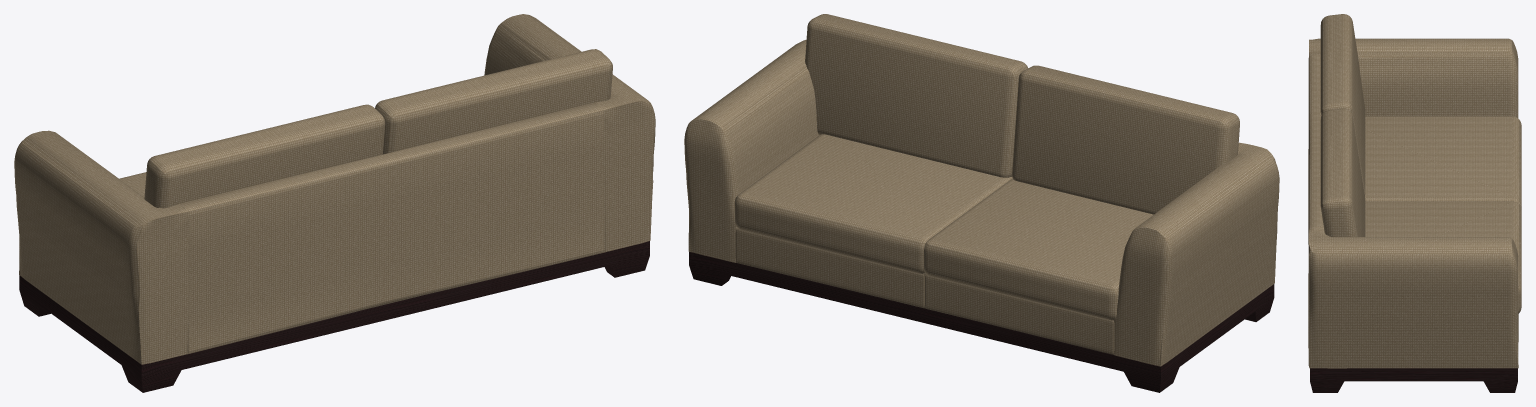
The model's file is couch4.obj.
3 views of the same model, side by side, from view 1: azimuth 30°, elevation 25°; view 2: azimuth 150°, elevation 25°; view 3: azimuth 270°, elevation 25° (orthographic). The views are drawn at different scales.
Visible parts, largest first — view 1: main, base; view 2: main, base; view 3: main, base.
Boxes of the visible parts, x1,y1,x2,y2 form: main: [14, 14, 655, 364]; base: [19, 241, 649, 392]; main: [684, 14, 1279, 366]; base: [689, 252, 1274, 392]; main: [1308, 14, 1521, 368]; base: [1310, 368, 1517, 392].
Bounding box in the file's own units: 230 × 90 × 95.01.
2 materials, 2 textured.
